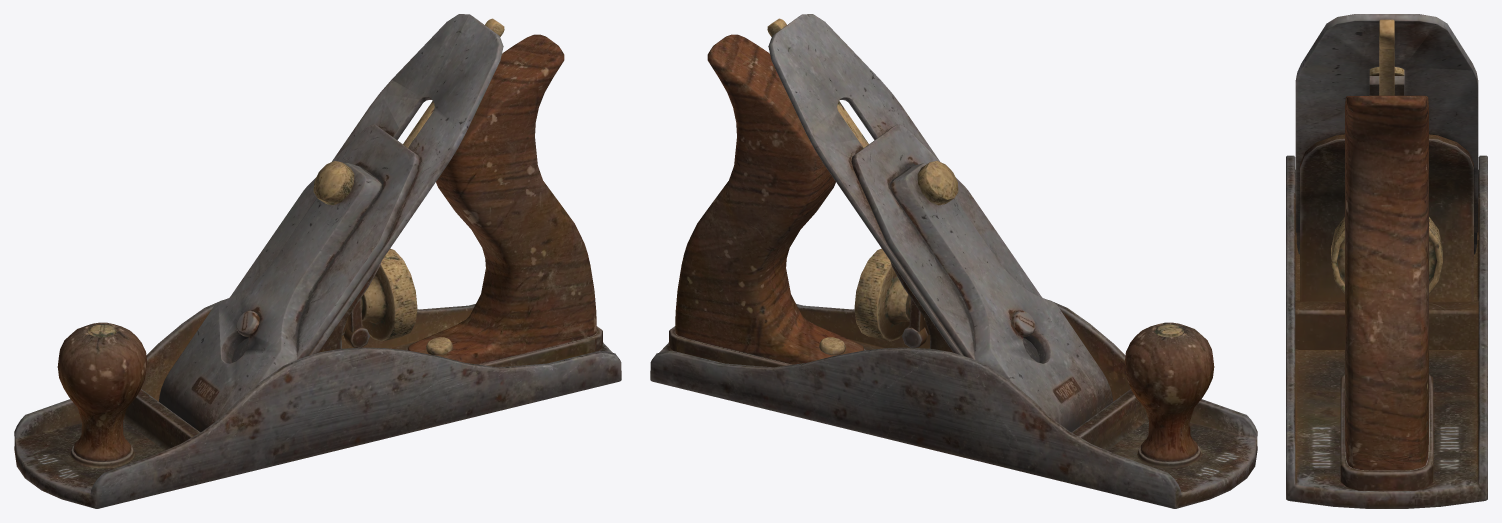
File: no-4-hand-plane.glb
3 views of the same model, side by side, from view 1: azimuth 30°, elevation 25°; view 2: azimuth 150°, elevation 25°; view 3: azimuth 270°, elevation 25° (orthographic). The views are drawn at different scales.
Visible parts, largest first — view 1: hand_plane_no4; view 2: hand_plane_no4; view 3: hand_plane_no4.
Boxes of the visible parts, x1=… form: hand_plane_no4: x1=14, y1=14, x2=621, y2=508; hand_plane_no4: x1=650, y1=14, x2=1257, y2=508; hand_plane_no4: x1=1286, y1=14, x2=1487, y2=508.
Bounding box in the file's own units: 0.3308 × 0.1978 × 0.0843.
1 material, 1 textured.
